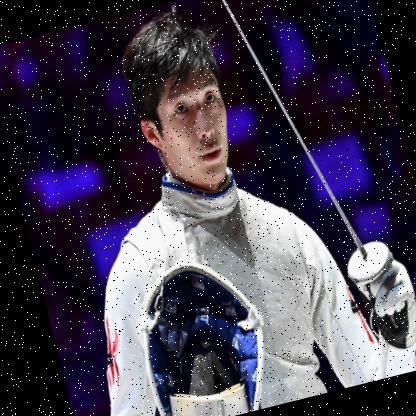fencer: (13, 0, 415, 415)
